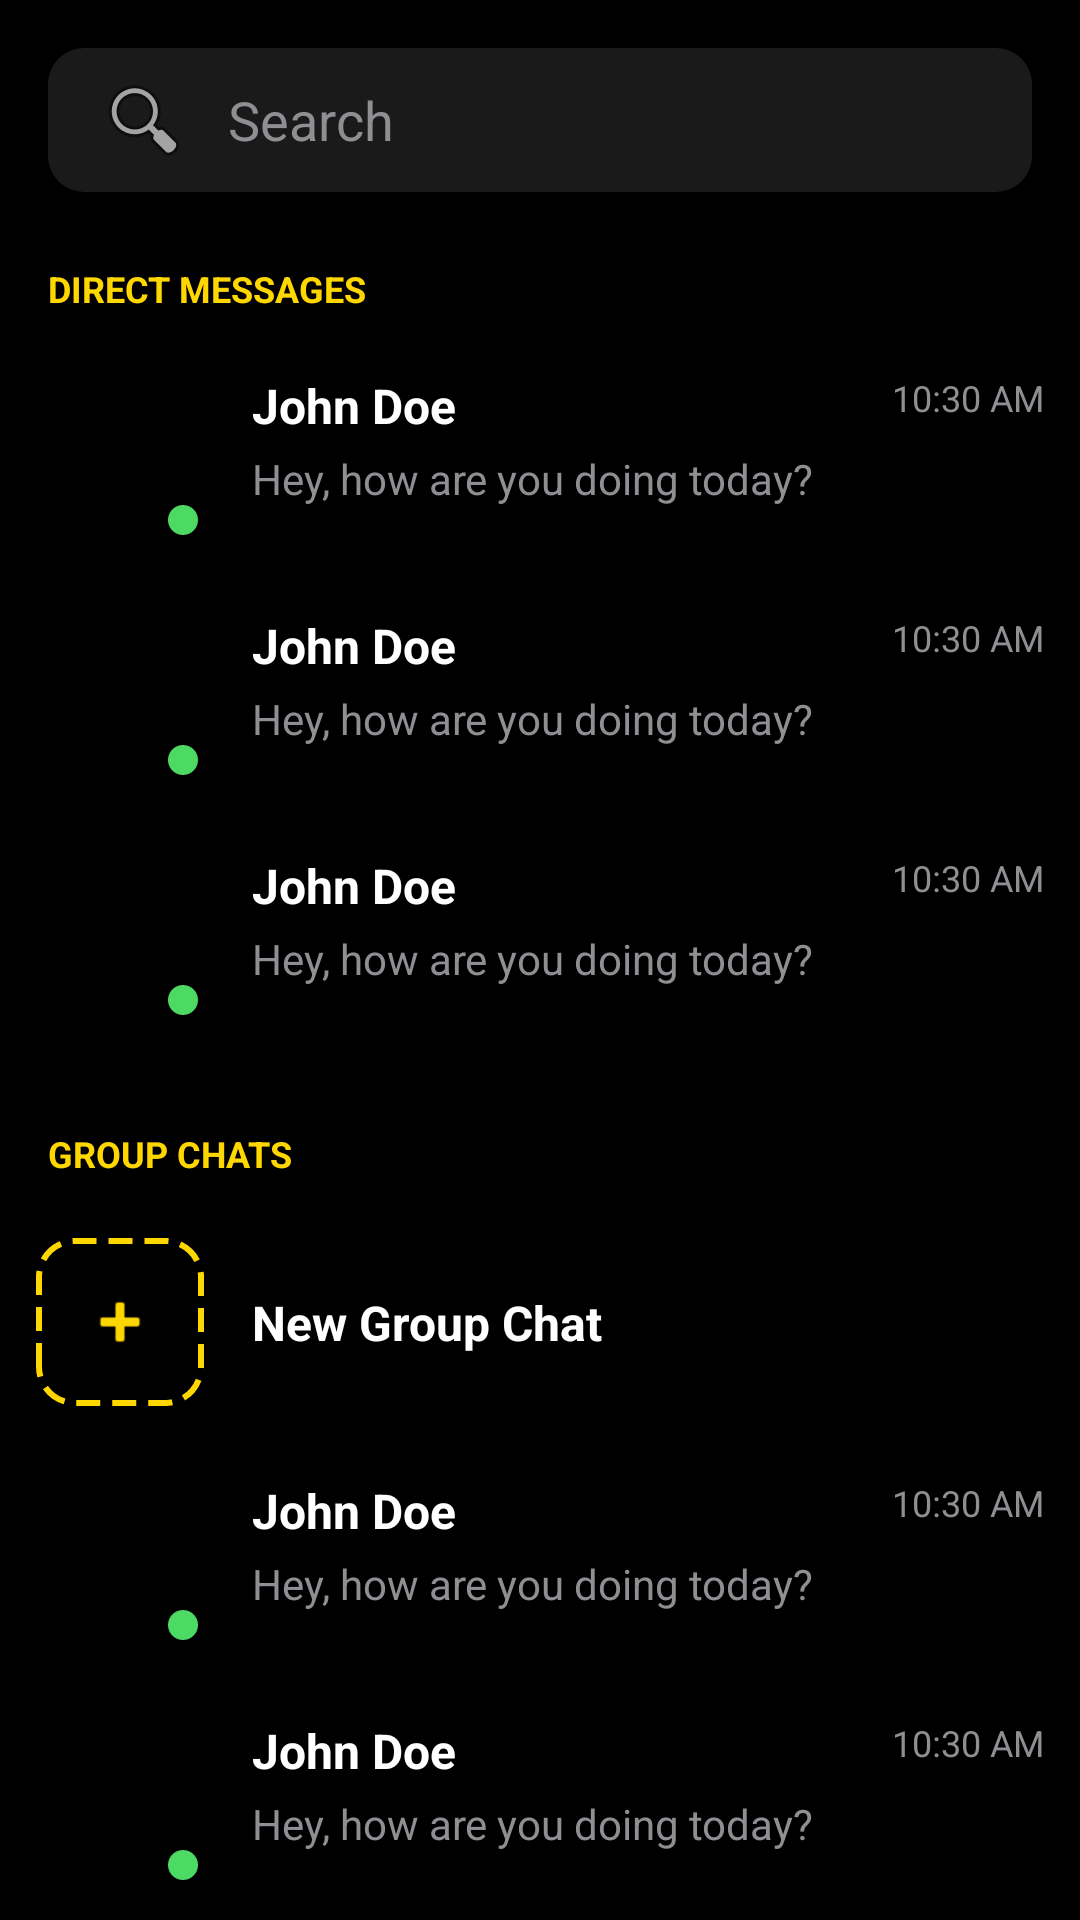

Icon click points for this 1080w x 1920h phone screenshot, format [x,y]:
add: [120,1322]
